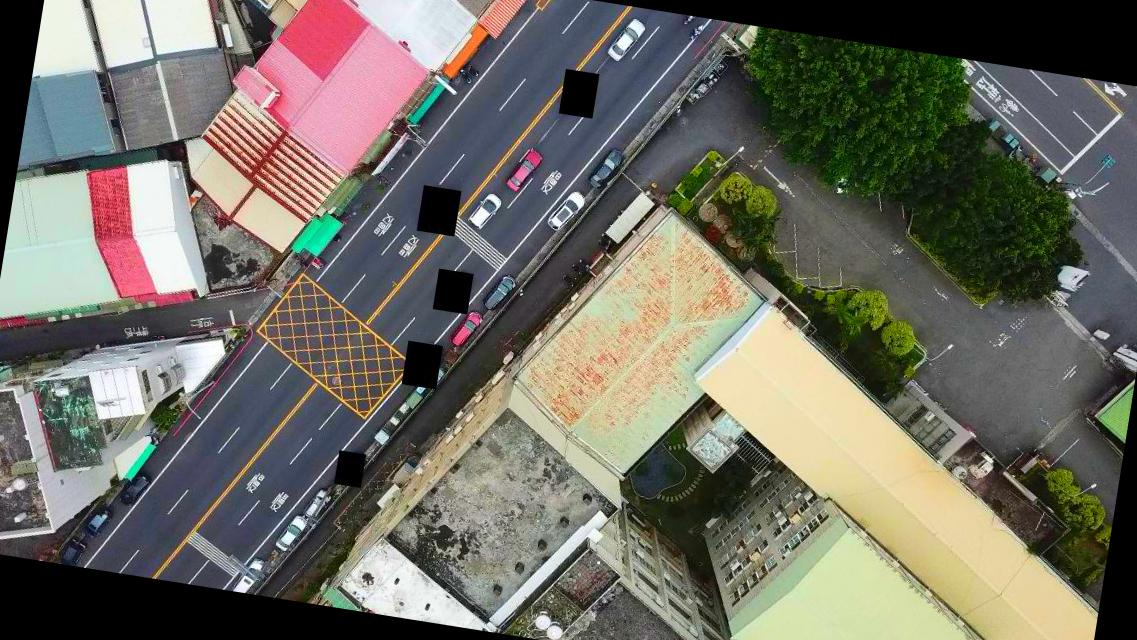vehicle: (502, 144, 544, 196), (606, 13, 648, 64), (547, 184, 589, 234), (587, 143, 626, 192), (466, 188, 504, 234), (274, 509, 310, 554), (482, 269, 516, 316), (116, 467, 152, 510), (451, 306, 484, 352), (229, 555, 266, 594), (302, 481, 334, 523), (82, 505, 114, 540), (60, 536, 88, 566)
